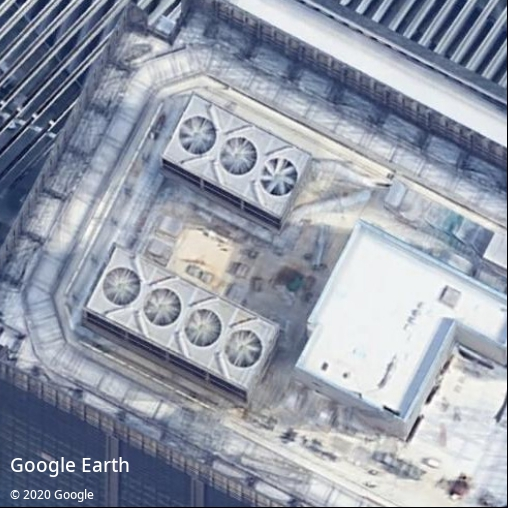Vent: (179, 116, 217, 155), (103, 267, 141, 306), (221, 137, 258, 175), (261, 158, 298, 196), (185, 309, 222, 347), (144, 289, 181, 326), (226, 330, 262, 367)
